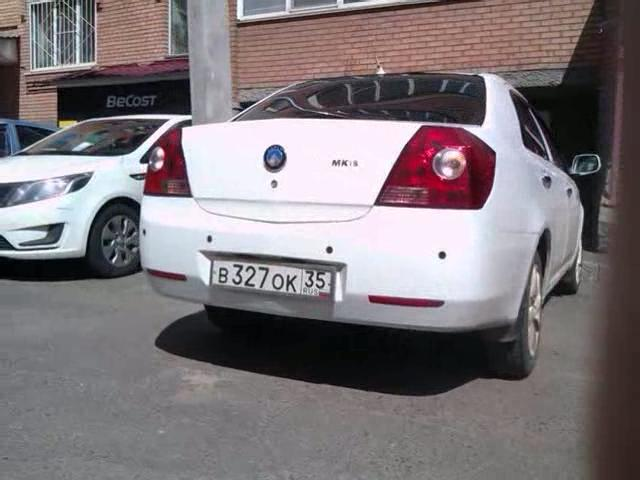car license plate: (207, 259, 333, 304)
